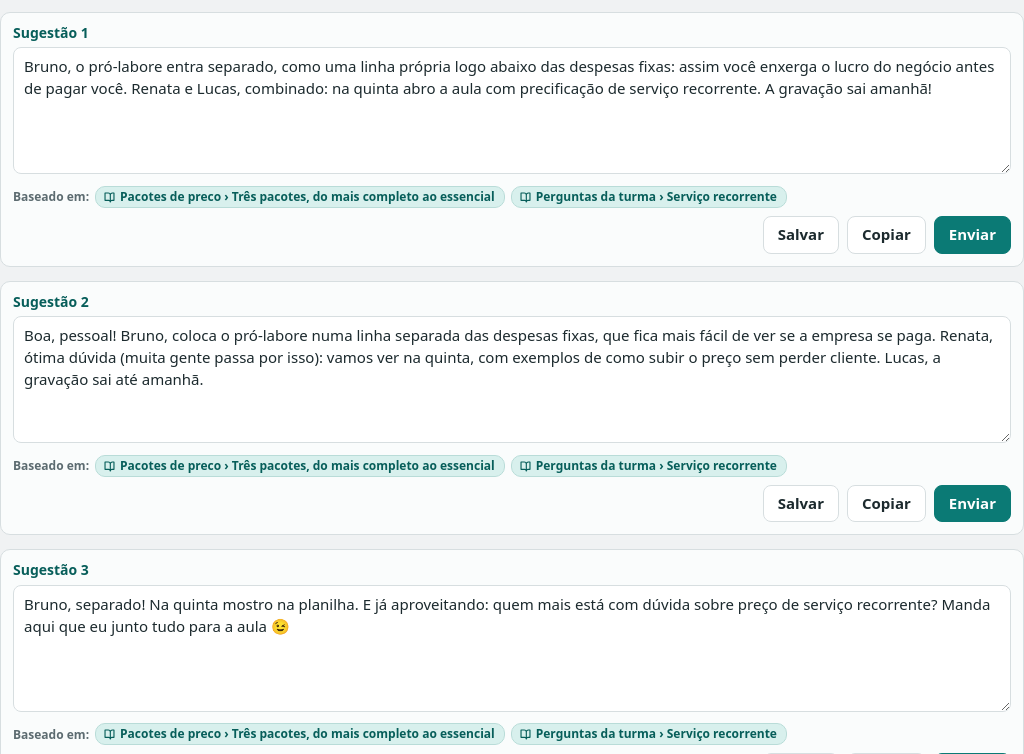
Test case: Enviar (envio direto) › grupo: mostra o grupo e a mensagem que vai ser citada
Click the 1st button "Enviar" at (972, 235), box [934, 216, 1011, 254]
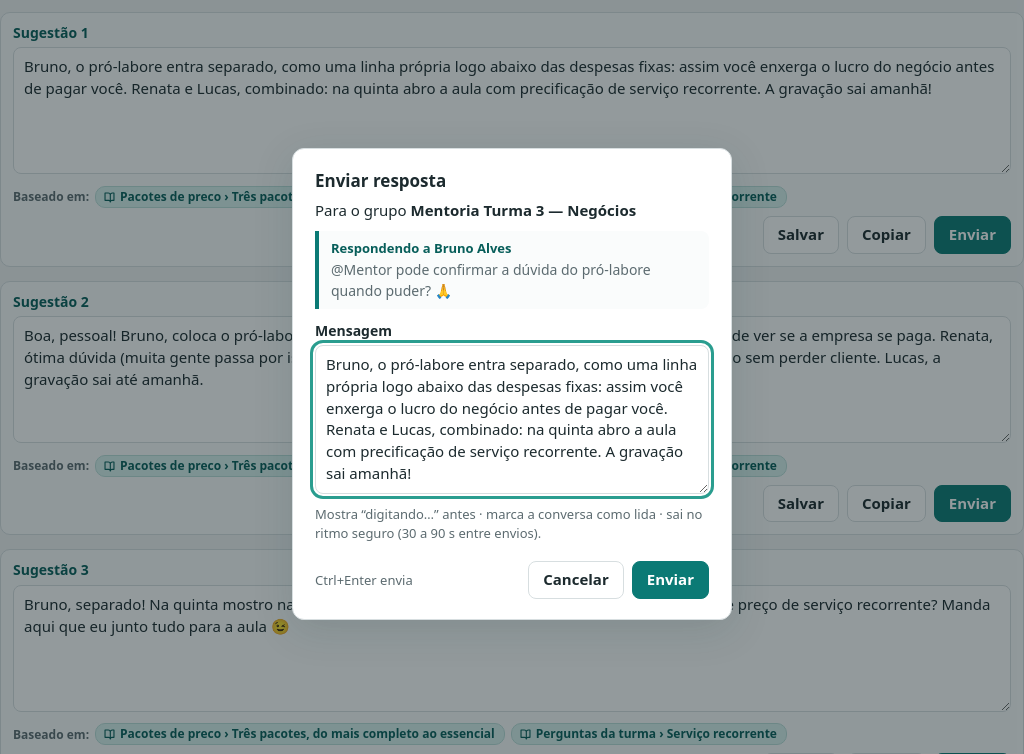
Check: the text "Mentoria Turma 3 — Negócios" is shown, box [411, 200, 636, 220]
Check: the text "Para o grupo Mentoria Turma 3 — Negócios" is shown, box [315, 200, 636, 220]
Check: the element named "Mensagem citada" shows "Respondendo a", box [331, 240, 434, 258]
